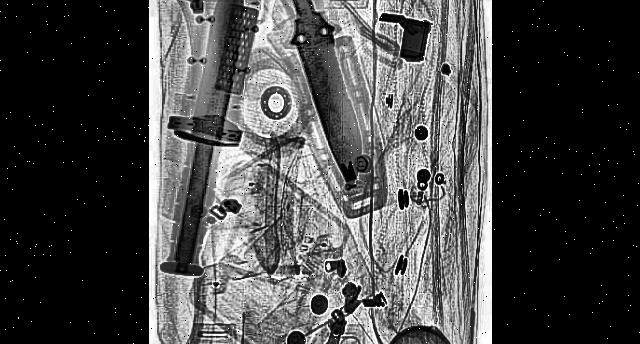Knife: (165, 0, 251, 275), (267, 0, 367, 193)
